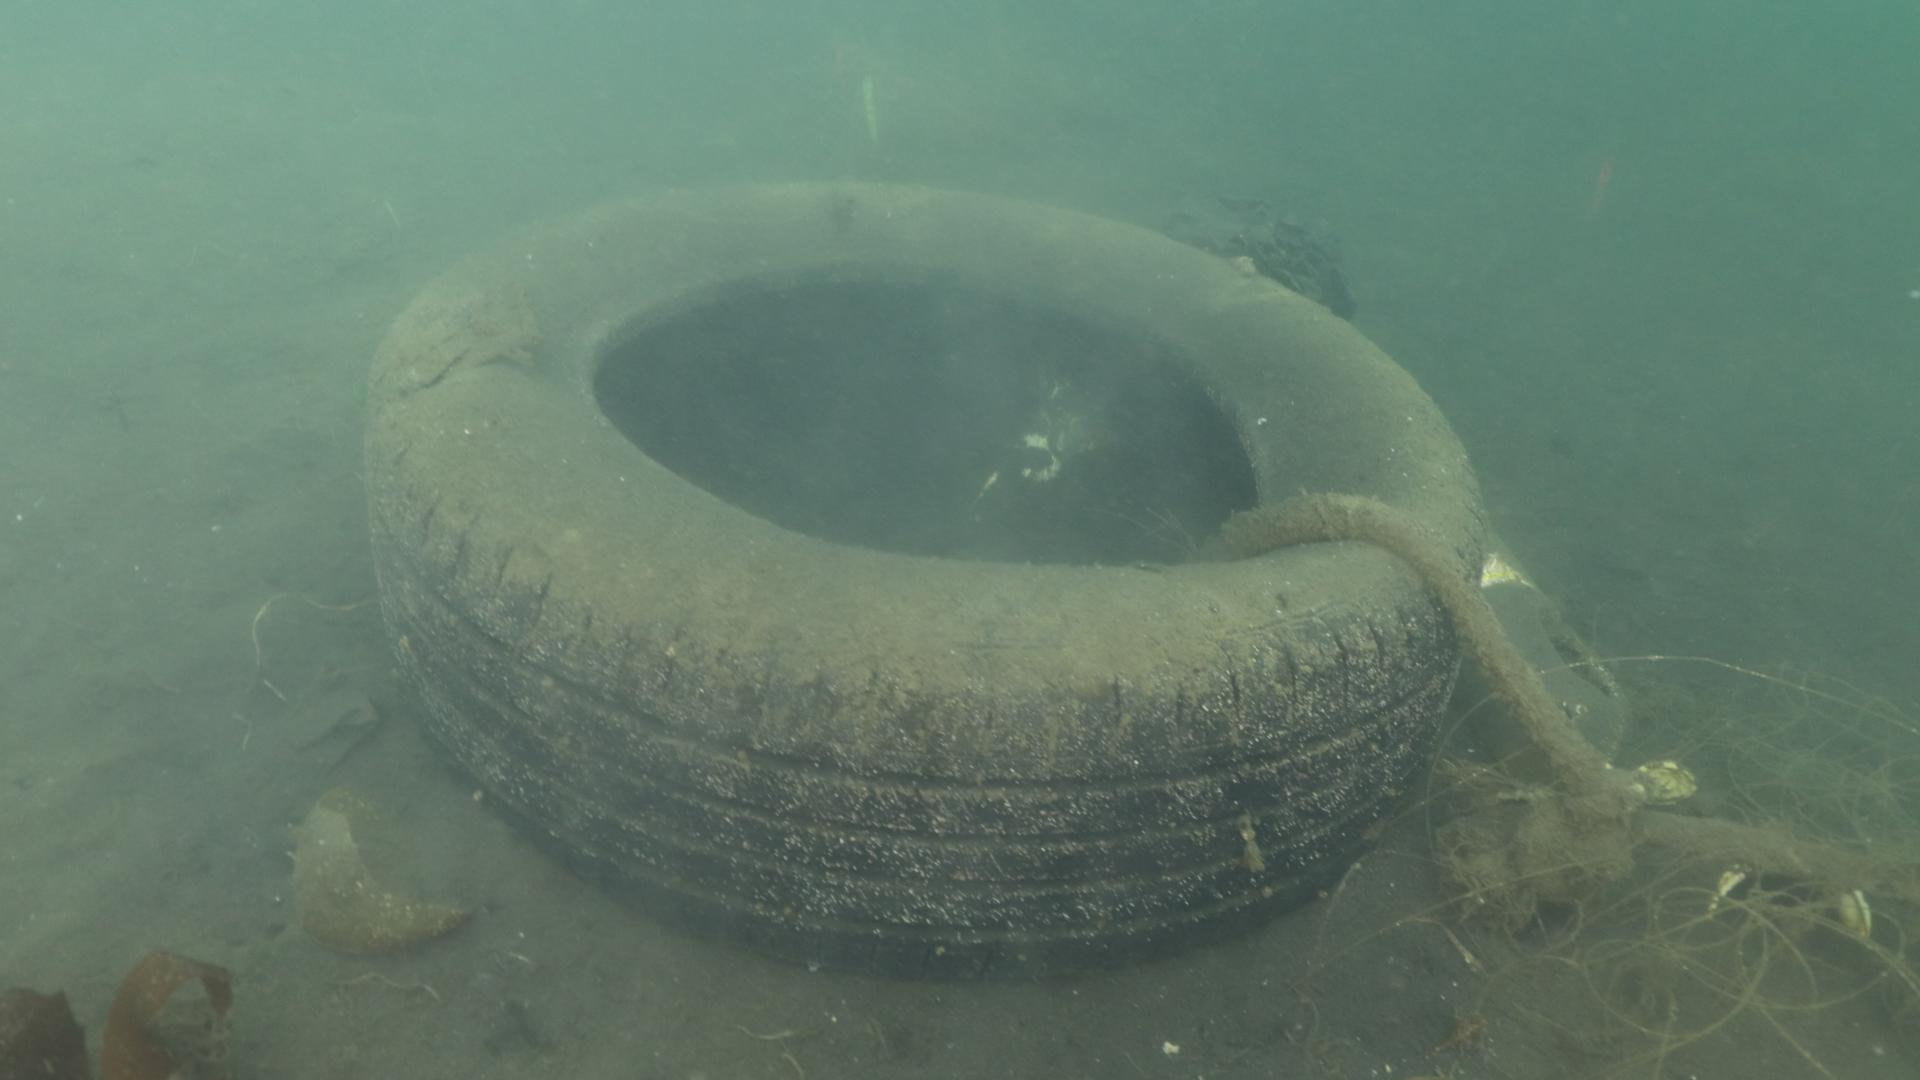rope: (1213, 493, 1920, 887)
tire: (357, 178, 1480, 980)
